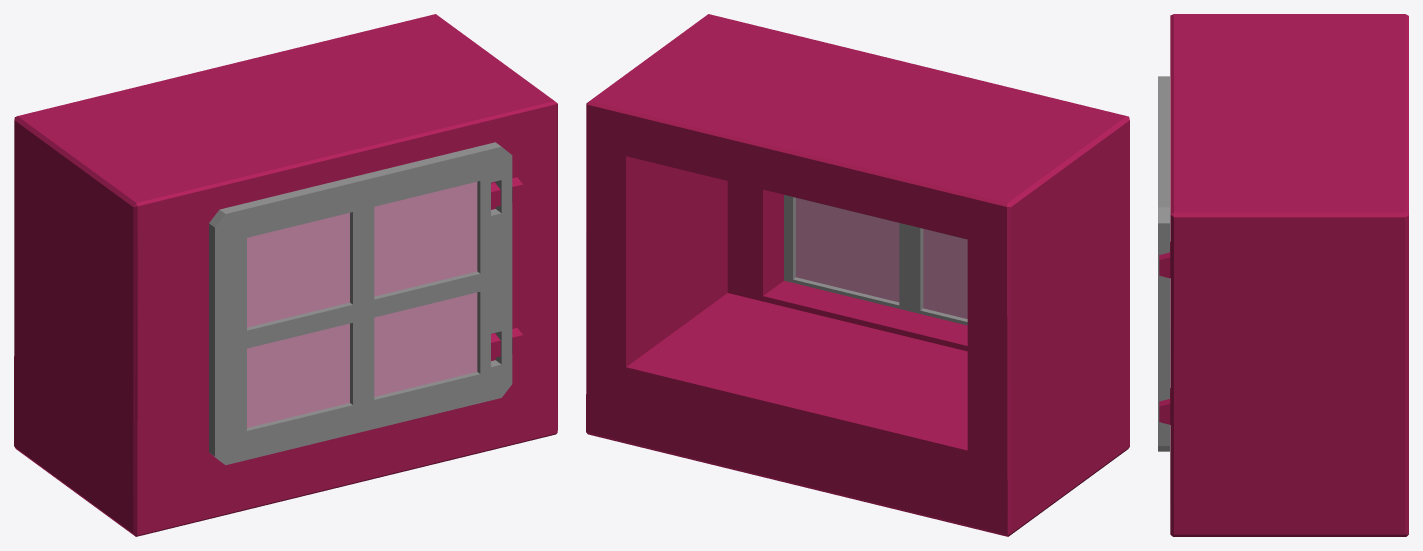
Rendered from Part_House_Window_2X4_low_simple.FBX.
The picture shows the model from 3 angles, left to right: view 1: azimuth 30°, elevation 25°; view 2: azimuth 150°, elevation 25°; view 3: azimuth 270°, elevation 25°; orthographic projection. The views are drawn at different scales.
Parts seen in each view (by area): view 1: Part_House_Window_2X4_low_simple, Part_House_Window_low, Part_House_Window_glass_low; view 2: Part_House_Window_2X4_low_simple, Part_House_Window_glass_low, Part_House_Window_low; view 3: Part_House_Window_2X4_low_simple, Part_House_Window_low.
Part boxes in pixels (<box>): Part_House_Window_2X4_low_simple: <box>14,14,557,536</box>; Part_House_Window_low: <box>209,142,512,465</box>; Part_House_Window_glass_low: <box>247,182,477,427</box>; Part_House_Window_2X4_low_simple: <box>586,14,1129,536</box>; Part_House_Window_glass_low: <box>796,198,967,318</box>; Part_House_Window_low: <box>784,195,967,325</box>; Part_House_Window_2X4_low_simple: <box>1159,14,1408,536</box>; Part_House_Window_low: <box>1158,76,1169,451</box>.
Size of the model in its own units: 400 by 300 by 210.
